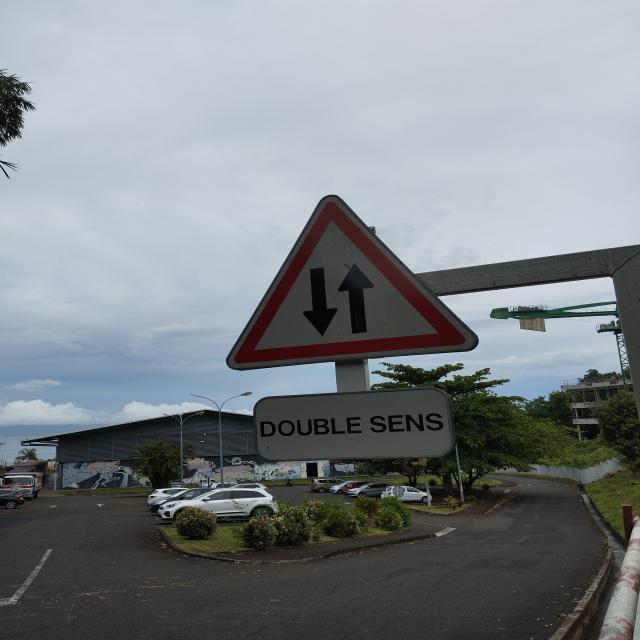Double-Sens: (216, 190, 490, 371)
